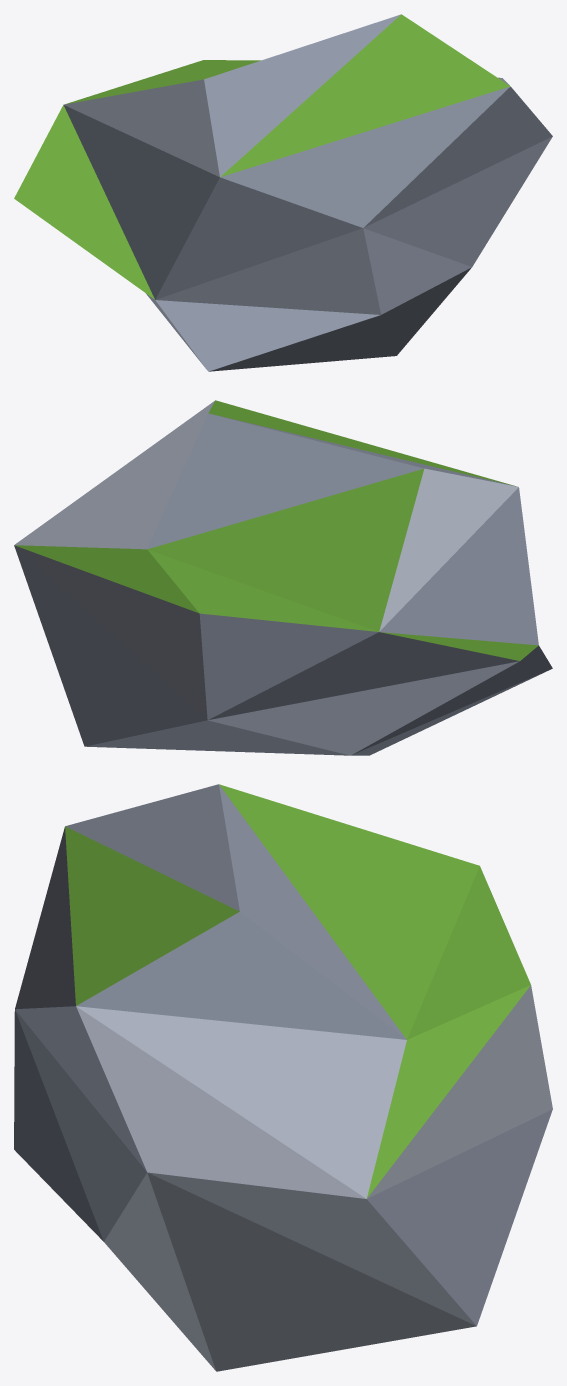
The model's file is roca_v1.glb.
3 views of the same model, one above another, from view 1: azimuth 30°, elevation 25°; view 2: azimuth 150°, elevation 25°; view 3: azimuth 270°, elevation 25° (orthographic). The views are drawn at different scales.
Visible parts, largest first — view 1: roca_roca, roca_musgo, roca_roca_claro; view 2: roca_roca, roca_musgo, roca_roca_claro; view 3: roca_roca_claro, roca_roca, roca_musgo.
Part boxes in pixels (bbox=[...]): roca_roca: bbox=[63, 14, 552, 371]; roca_musgo: bbox=[14, 14, 510, 299]; roca_roca_claro: bbox=[64, 77, 509, 176]; roca_roca: bbox=[14, 413, 552, 755]; roca_musgo: bbox=[15, 400, 538, 660]; roca_roca_claro: bbox=[14, 401, 518, 719]; roca_roca_claro: bbox=[76, 985, 552, 1371]; roca_roca: bbox=[14, 784, 552, 1325]; roca_musgo: bbox=[65, 784, 530, 1198].
Bounding box in the file's own units: 2.67 × 1.72 × 1.79.
